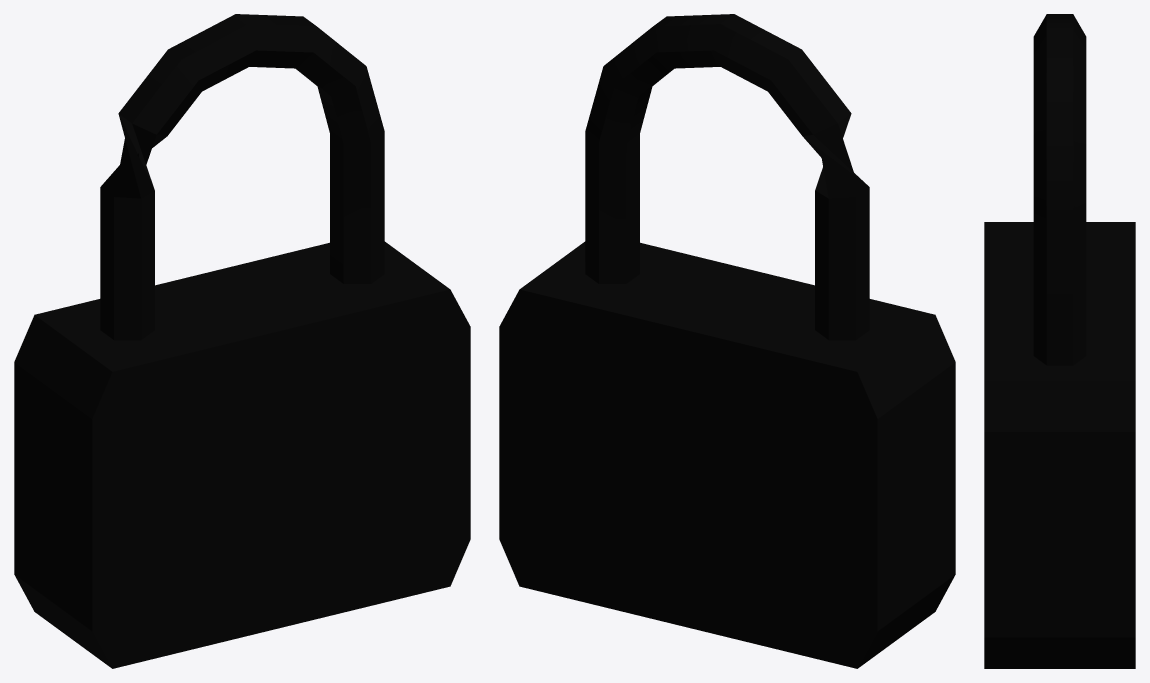
Rendered from SM_padlock.fbx.
The picture shows the model from 3 angles, left to right: view 1: azimuth 30°, elevation 25°; view 2: azimuth 150°, elevation 25°; view 3: azimuth 270°, elevation 25°; orthographic projection. The views are drawn at different scales.
Parts seen in each view (by area): view 1: padlock, padlock_shackle; view 2: padlock, padlock_shackle; view 3: padlock, padlock_shackle.
Boxes of the visible parts, bbox=[...] form: padlock: bbox=[14, 241, 470, 668]; padlock_shackle: bbox=[100, 14, 384, 340]; padlock: bbox=[499, 241, 955, 668]; padlock_shackle: bbox=[585, 14, 869, 340]; padlock: bbox=[984, 222, 1135, 668]; padlock_shackle: bbox=[1033, 14, 1086, 365].
Size of the model in its own units: 0.056 by 0.082 by 0.02.
